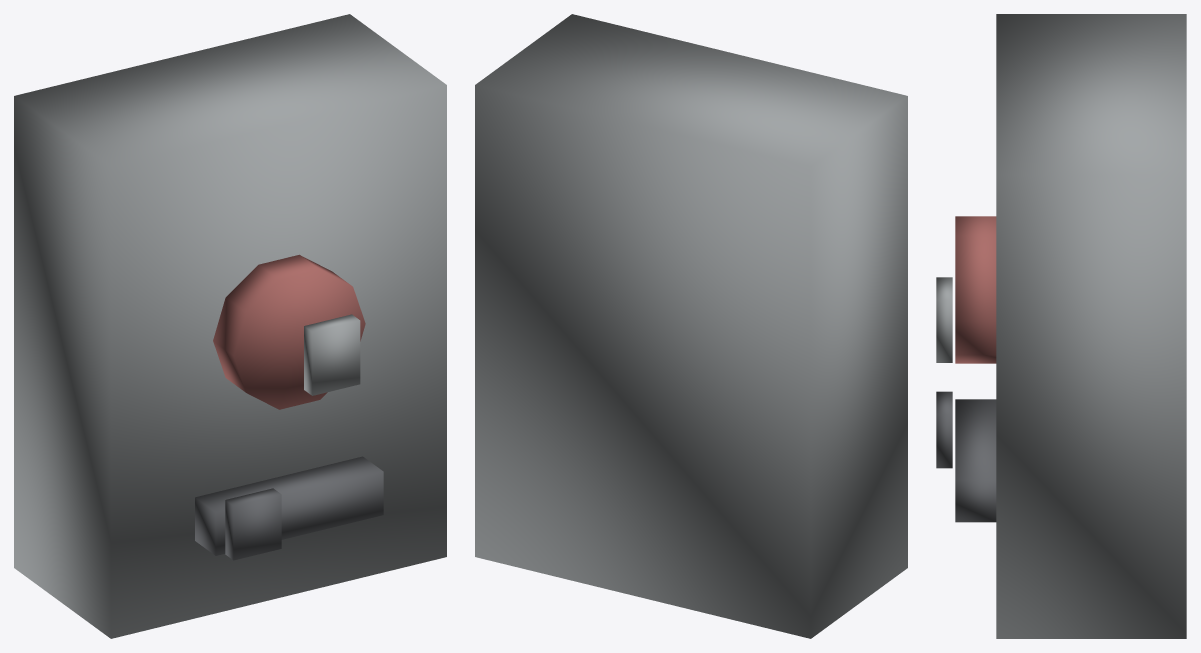
File: paper_towel_station__weathered.glb
3 renders of one model, left to right at view 1: azimuth 30°, elevation 25°; view 2: azimuth 150°, elevation 25°; view 3: azimuth 270°, elevation 25°, orthographic.
Parts seen in each view (by area): view 1: world; view 2: world; view 3: world.
Boxes of the visible parts, left/top/right/bottom form: world: left=14, top=14, right=446, bottom=638; world: left=475, top=14, right=907, bottom=638; world: left=936, top=14, right=1186, bottom=638.
Bounding box in the file's own units: 0.28 × 0.3762 × 0.184.
